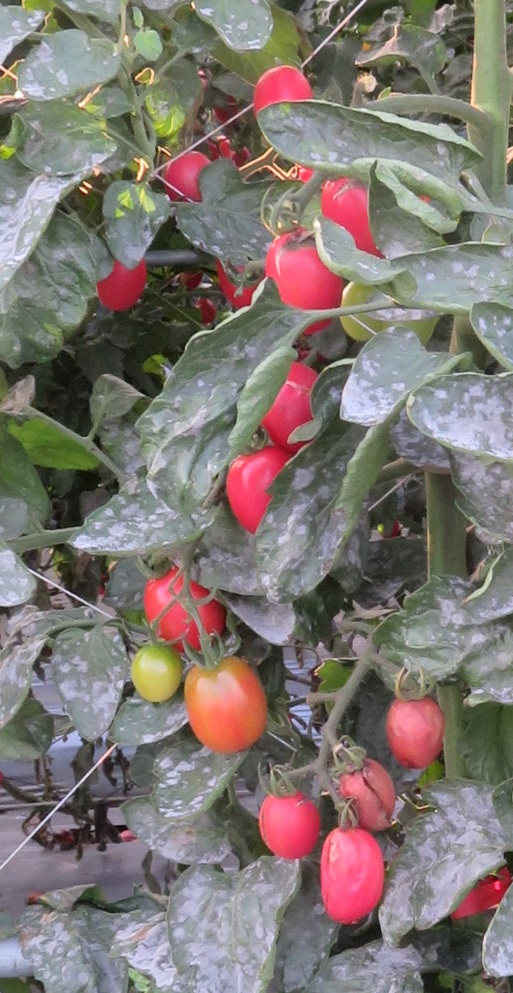green: (121, 643, 187, 703)
orange: (179, 656, 276, 757)
red: (265, 227, 342, 332), (320, 820, 385, 933), (141, 569, 226, 648), (255, 359, 324, 451), (225, 446, 293, 534), (320, 173, 384, 256), (381, 693, 442, 772), (256, 789, 320, 861), (250, 64, 316, 121), (96, 254, 147, 310), (162, 151, 216, 203)
